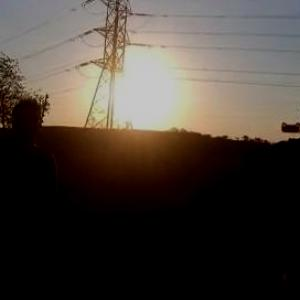follow: (0, 98, 73, 299)
